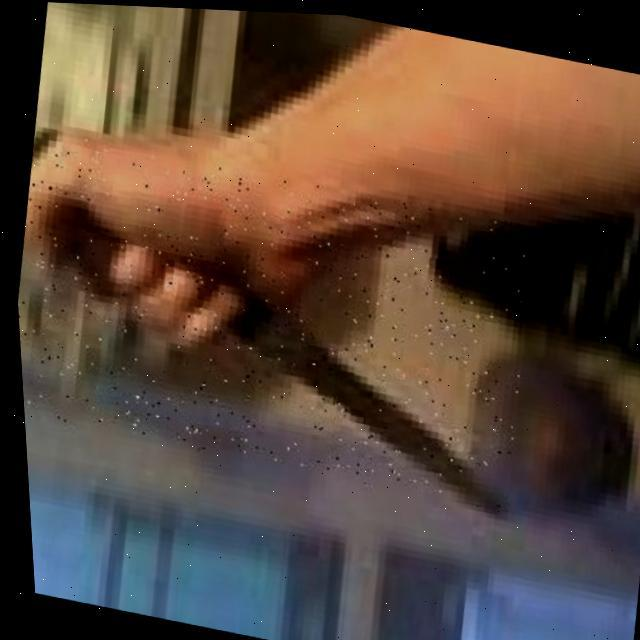knife: (6, 125, 544, 510)
